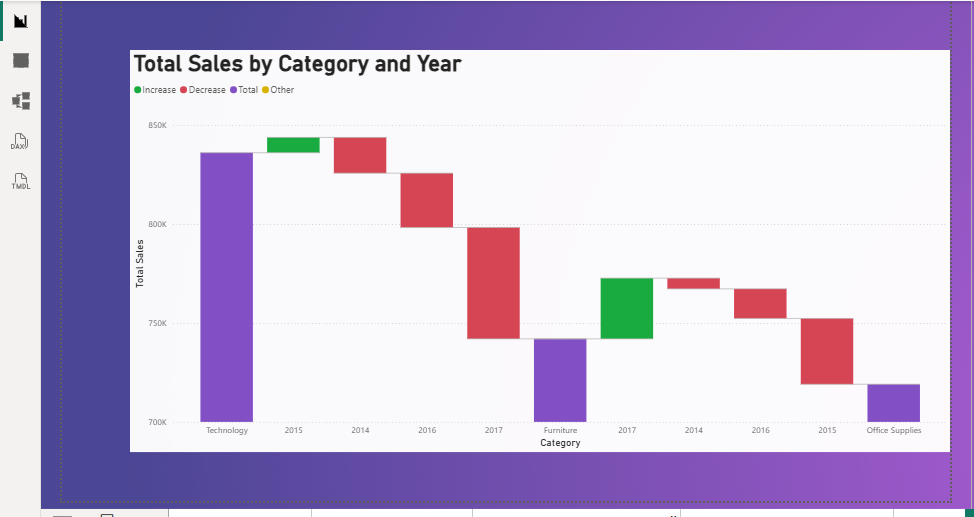

The page's visual inventory and layout, read from the dashboard file:
{"tool":"powerbi","page":{"name":"Category and Product Analysis","canvas":[1280,720],"ordinal":2},"visuals":[{"type":"waterfallChart","title":"Total Sales by Category and Year","fields":{"Category":["Orders.Category"],"Breakdown":["DateTable.Year"],"Y":["Measuires.Total Sales"]},"box":[97.9,70.6,1182.2,578.9],"z":0}]}

Visuals, with their boxes on the page's 1280x720 design canvas (x1, y1, x2, y2). These are canvas units, not pixel positions in the 974x517 screenshot, which may show the page scaled, cropped or inside an application window:
"Total Sales by Category and Year" waterfallChart: 98,71,1280,650
